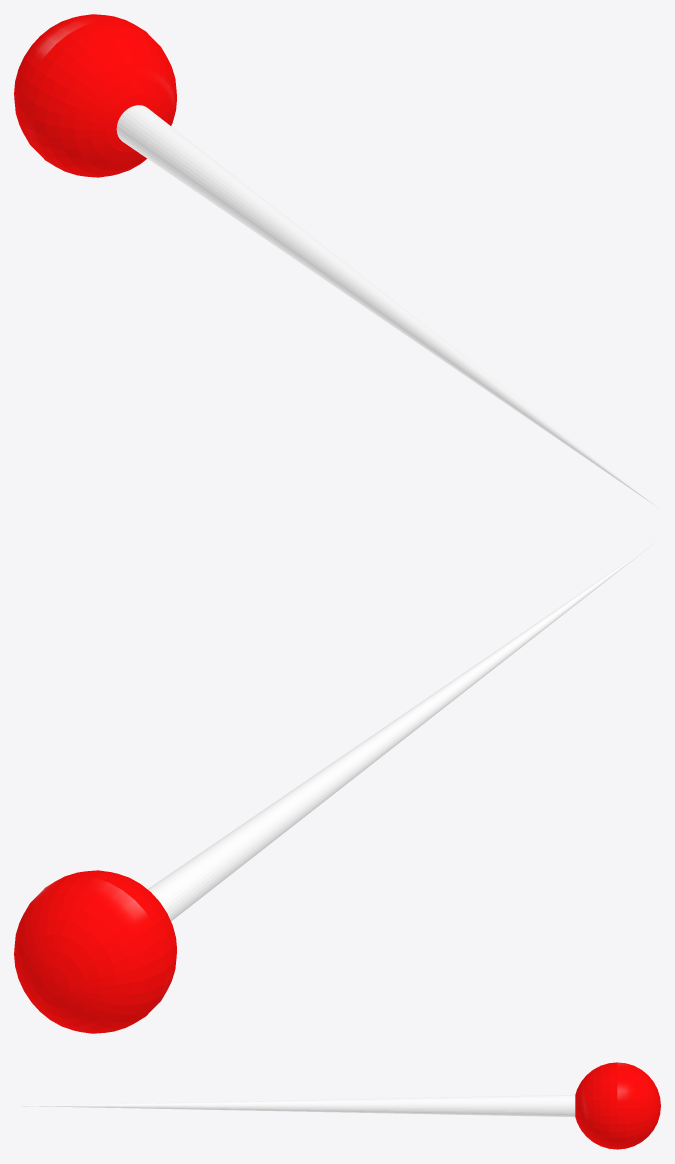
Rendered from pin.glb.
3 renders of one model, top to bottom at view 1: azimuth 30°, elevation 25°; view 2: azimuth 150°, elevation 25°; view 3: azimuth 270°, elevation 25°, orthographic. The views are drawn at different scales.
Visible parts, largest first — view 1: Cone; view 2: Cone; view 3: Cone.
Part boxes in pixels (<box>): Cone: <box>14,14,657,507</box>; Cone: <box>14,540,657,1033</box>; Cone: <box>22,1062,660,1149</box>.
Size of the model in its own units: 1.05 by 1.05 by 7.79.
1 material, 1 textured.
